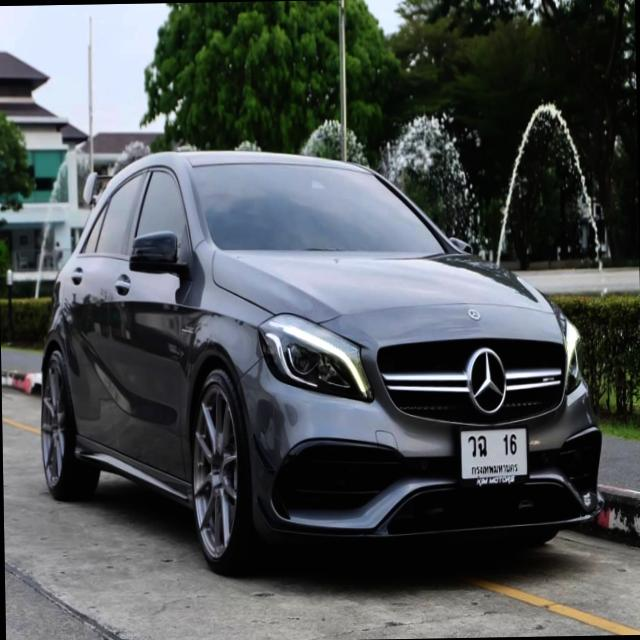license_plate: (456, 423, 532, 488)
